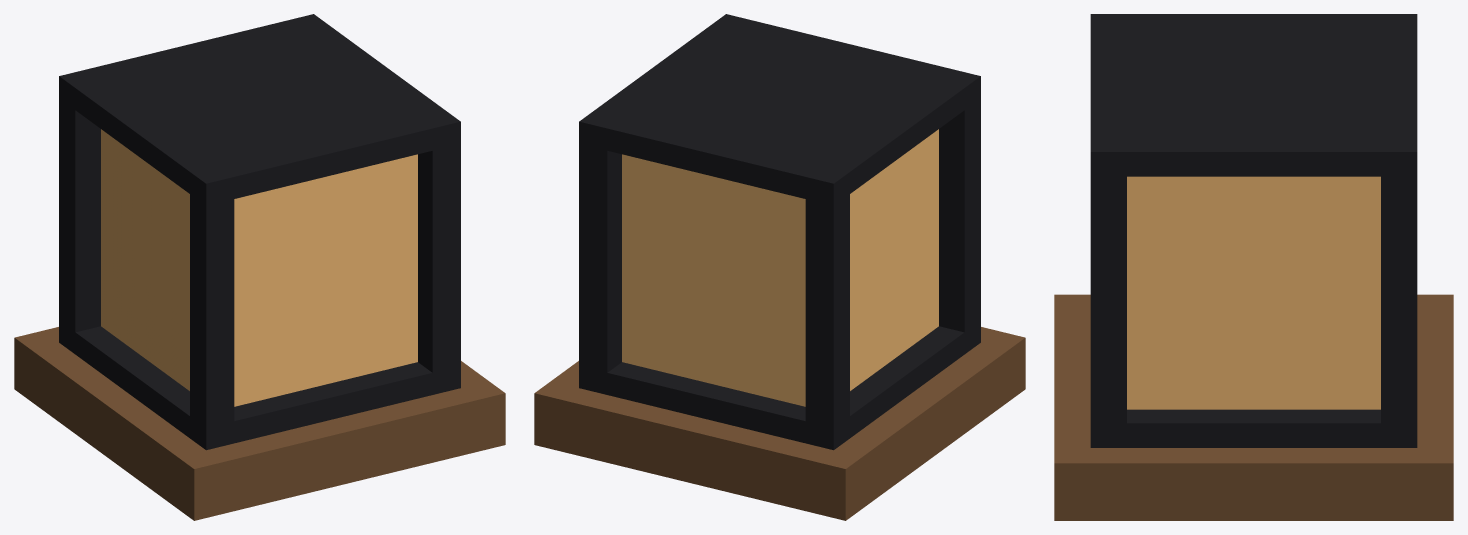
File: toro-lantern.glb
3 renders of one model, left to right at view 1: azimuth 30°, elevation 25°; view 2: azimuth 150°, elevation 25°; view 3: azimuth 270°, elevation 25°, orthographic. The views are drawn at different scales.
Visible parts, largest first — view 1: ToroLantern_Frame, ToroLantern_Paper, ToroLantern_Raft; view 2: ToroLantern_Frame, ToroLantern_Paper, ToroLantern_Raft; view 3: ToroLantern_Frame, ToroLantern_Paper, ToroLantern_Raft.
Part boxes in pixels (x1,y1,x2,y2): ToroLantern_Frame: (59, 14, 460, 450); ToroLantern_Paper: (101, 129, 417, 406); ToroLantern_Raft: (14, 327, 505, 520); ToroLantern_Frame: (579, 14, 980, 450); ToroLantern_Paper: (622, 129, 938, 406); ToroLantern_Raft: (534, 327, 1025, 520); ToroLantern_Frame: (1090, 14, 1417, 447); ToroLantern_Paper: (1127, 176, 1380, 409); ToroLantern_Raft: (1054, 294, 1453, 520).
Size of the model in its own units: 2.2 by 2.15 by 2.2.
